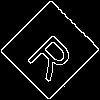R: (25, 25, 83, 84)
